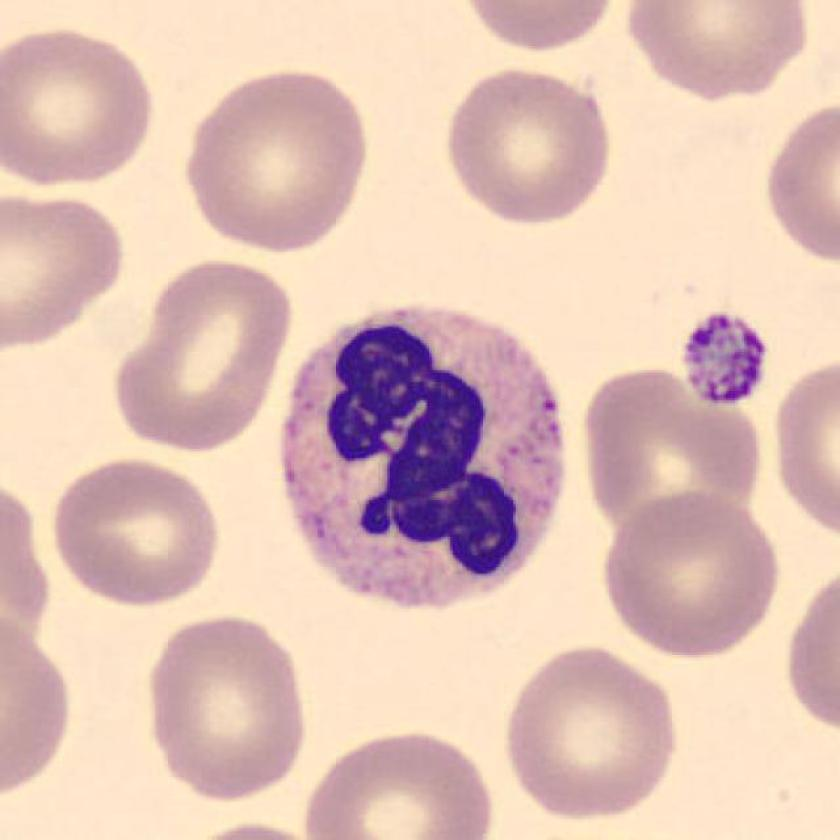neutrophil: (283, 311, 559, 603)
